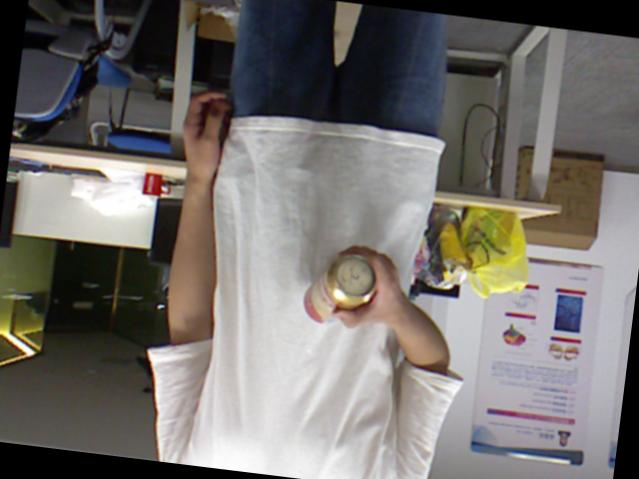metal: (303, 252, 373, 321)
